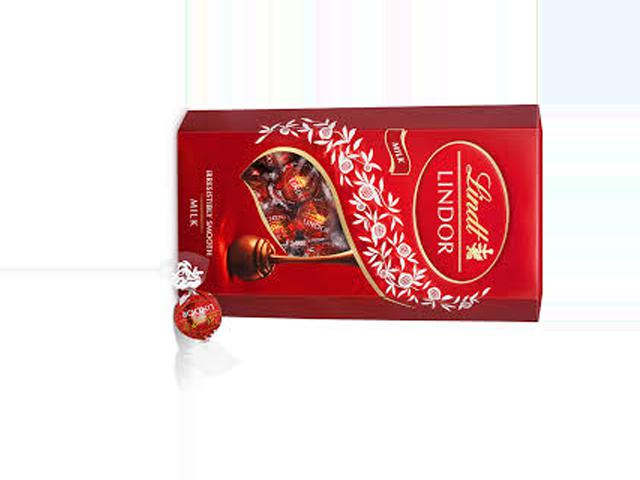chocolate: (176, 108, 541, 342)
